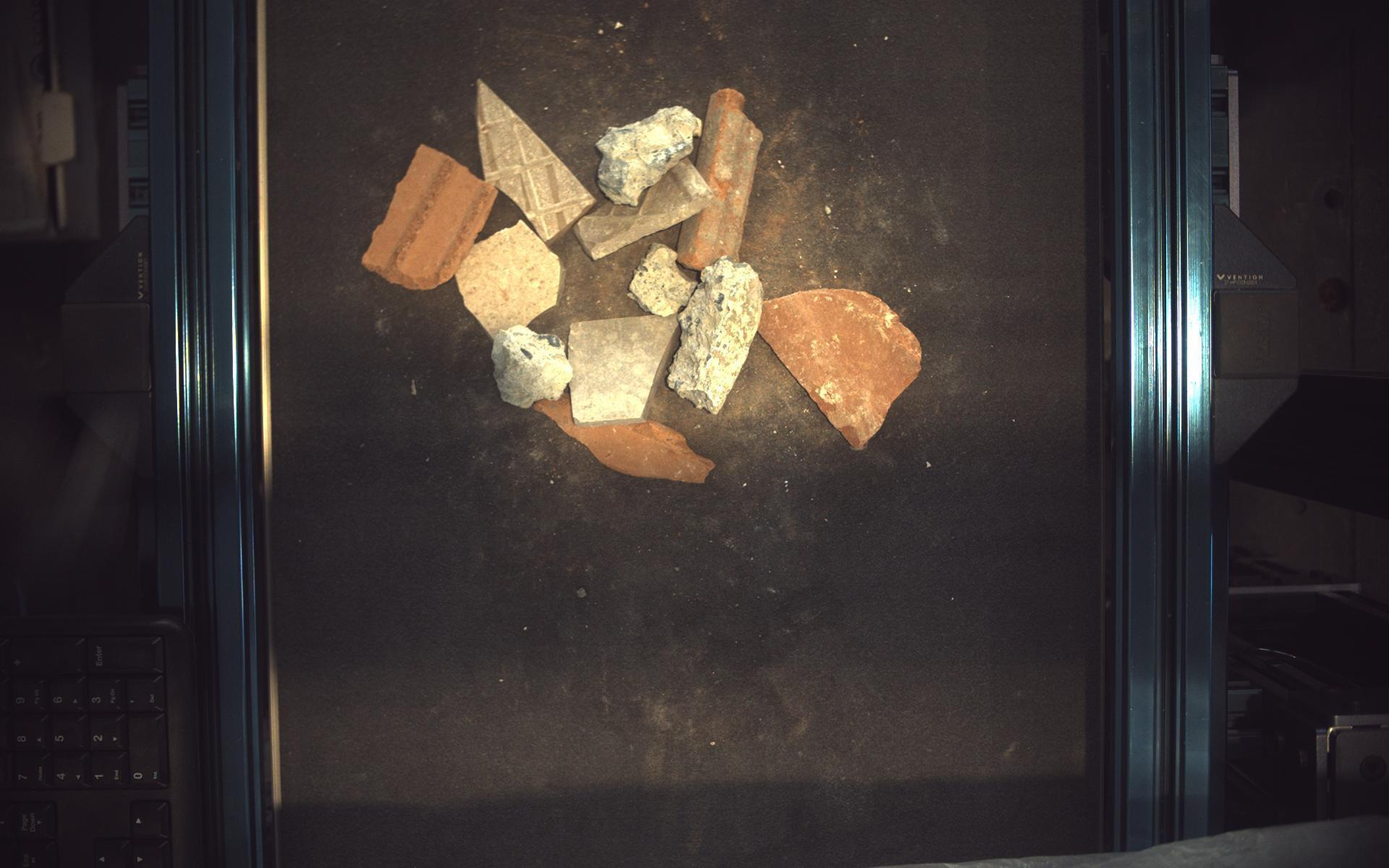brick: (760, 289, 923, 449), (362, 144, 498, 289), (535, 393, 716, 483), (679, 88, 765, 269)
concrete: (668, 256, 764, 414), (596, 105, 702, 205), (492, 324, 574, 408), (629, 242, 698, 316)
tile: (476, 78, 595, 242), (575, 157, 714, 259), (456, 220, 561, 337), (569, 315, 677, 425)
